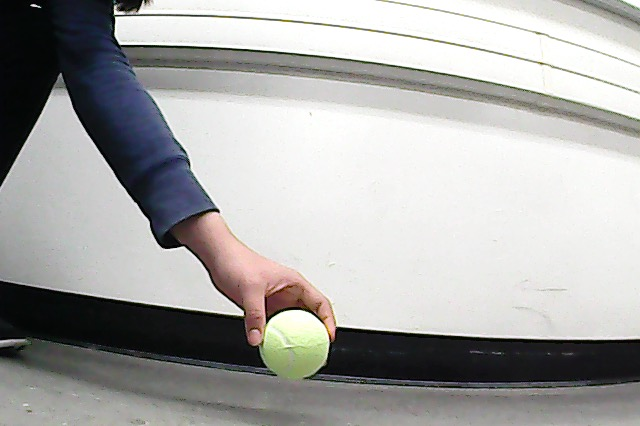ball: (254, 307, 332, 384)
